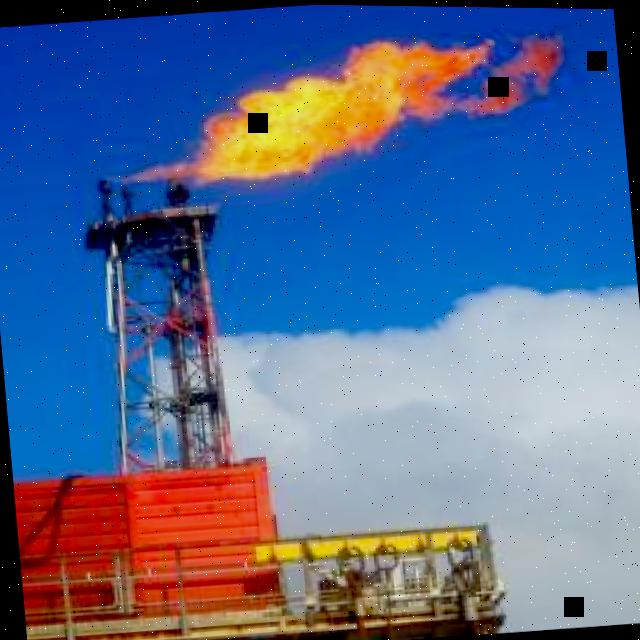fire: (49, 20, 198, 104)
smoke: (53, 8, 255, 72)
